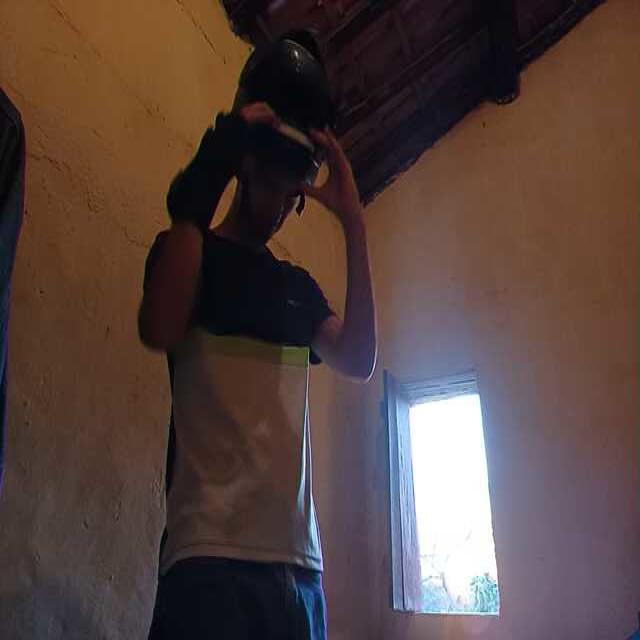capacete: (235, 27, 337, 187)
pessoa: (152, 115, 366, 640)
